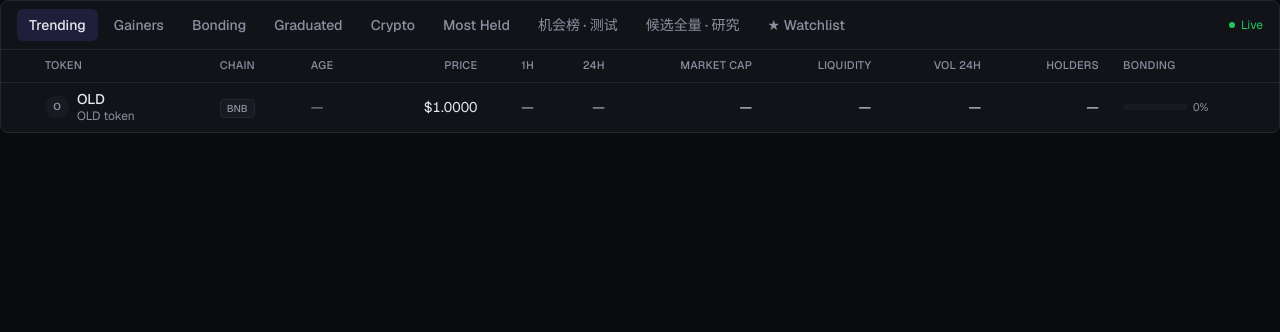
Test case: 实验榜独立订阅，保留服务端顺序和FDV展示，切回原Trending
Click the button "机会榜 · 测试" at (578, 25), box [526, 9, 630, 41]
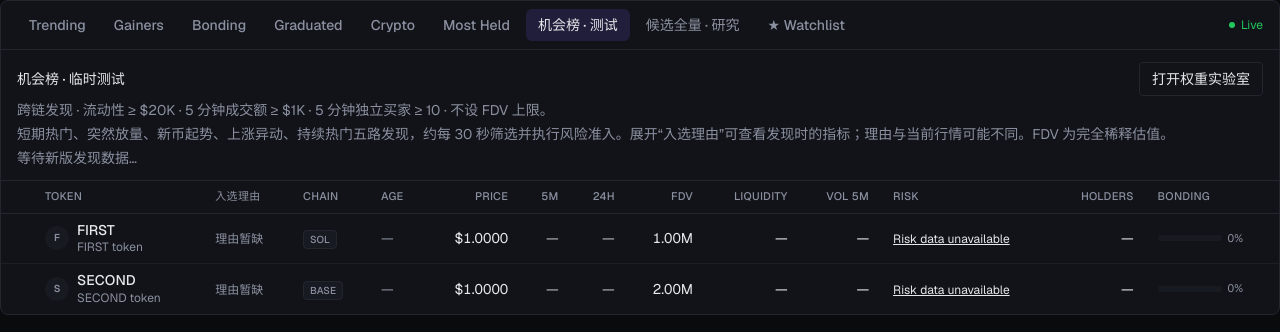
Result: the column heading "FDV" is shown at [627, 181, 705, 213]
Result: the column heading "Vol 5m" is shown at [800, 181, 881, 213]
Result: the column heading "Risk" is shown at [881, 181, 1052, 213]
Click the button "Trending" at (57, 25), box [17, 9, 98, 41]
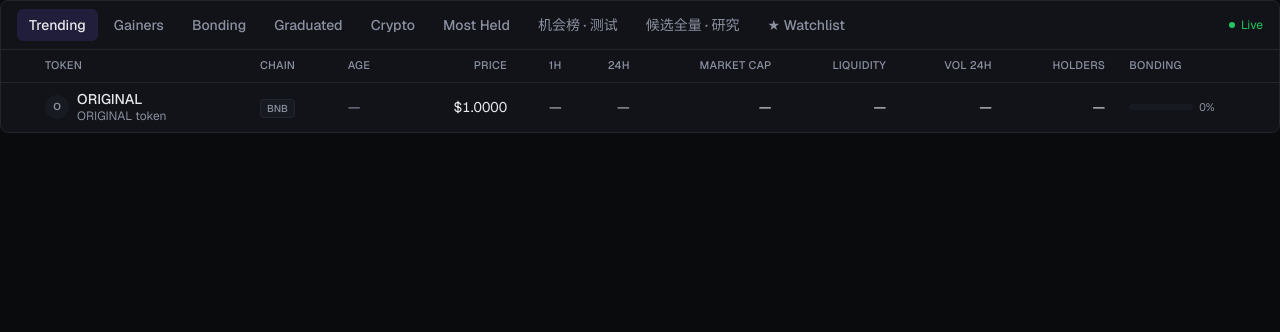
Result: the link "FIRST" is gone
Result: the column heading "Market Cap" is shown at [642, 50, 784, 82]
